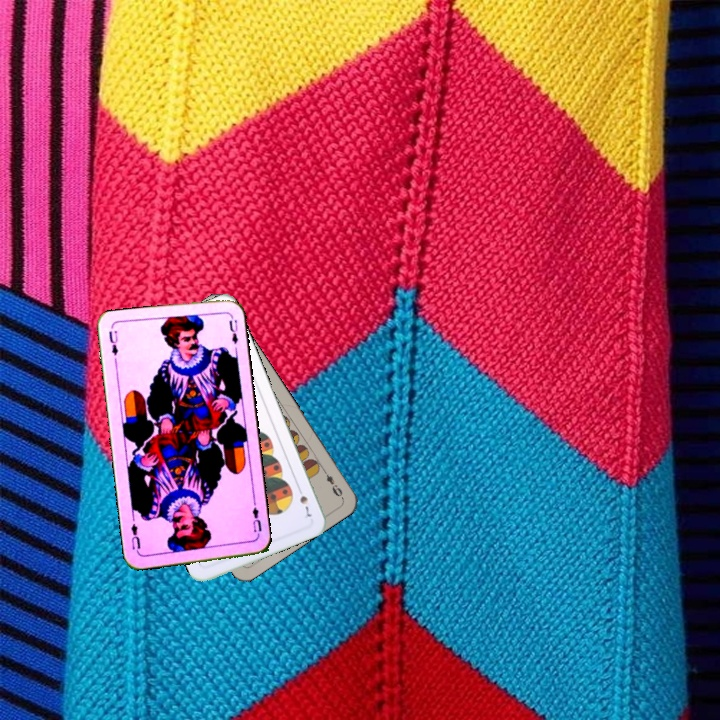E9: (318, 464, 345, 501)
EU: (248, 499, 264, 535), (105, 326, 121, 358)
S7: (294, 482, 314, 520)
